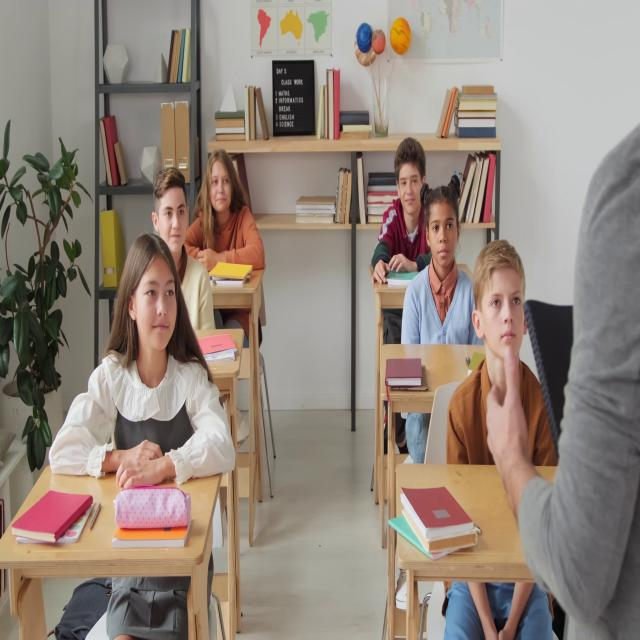listening: (51, 244, 242, 640), (443, 244, 555, 463), (189, 150, 267, 450), (402, 183, 477, 350), (154, 166, 221, 330), (371, 134, 430, 279)
